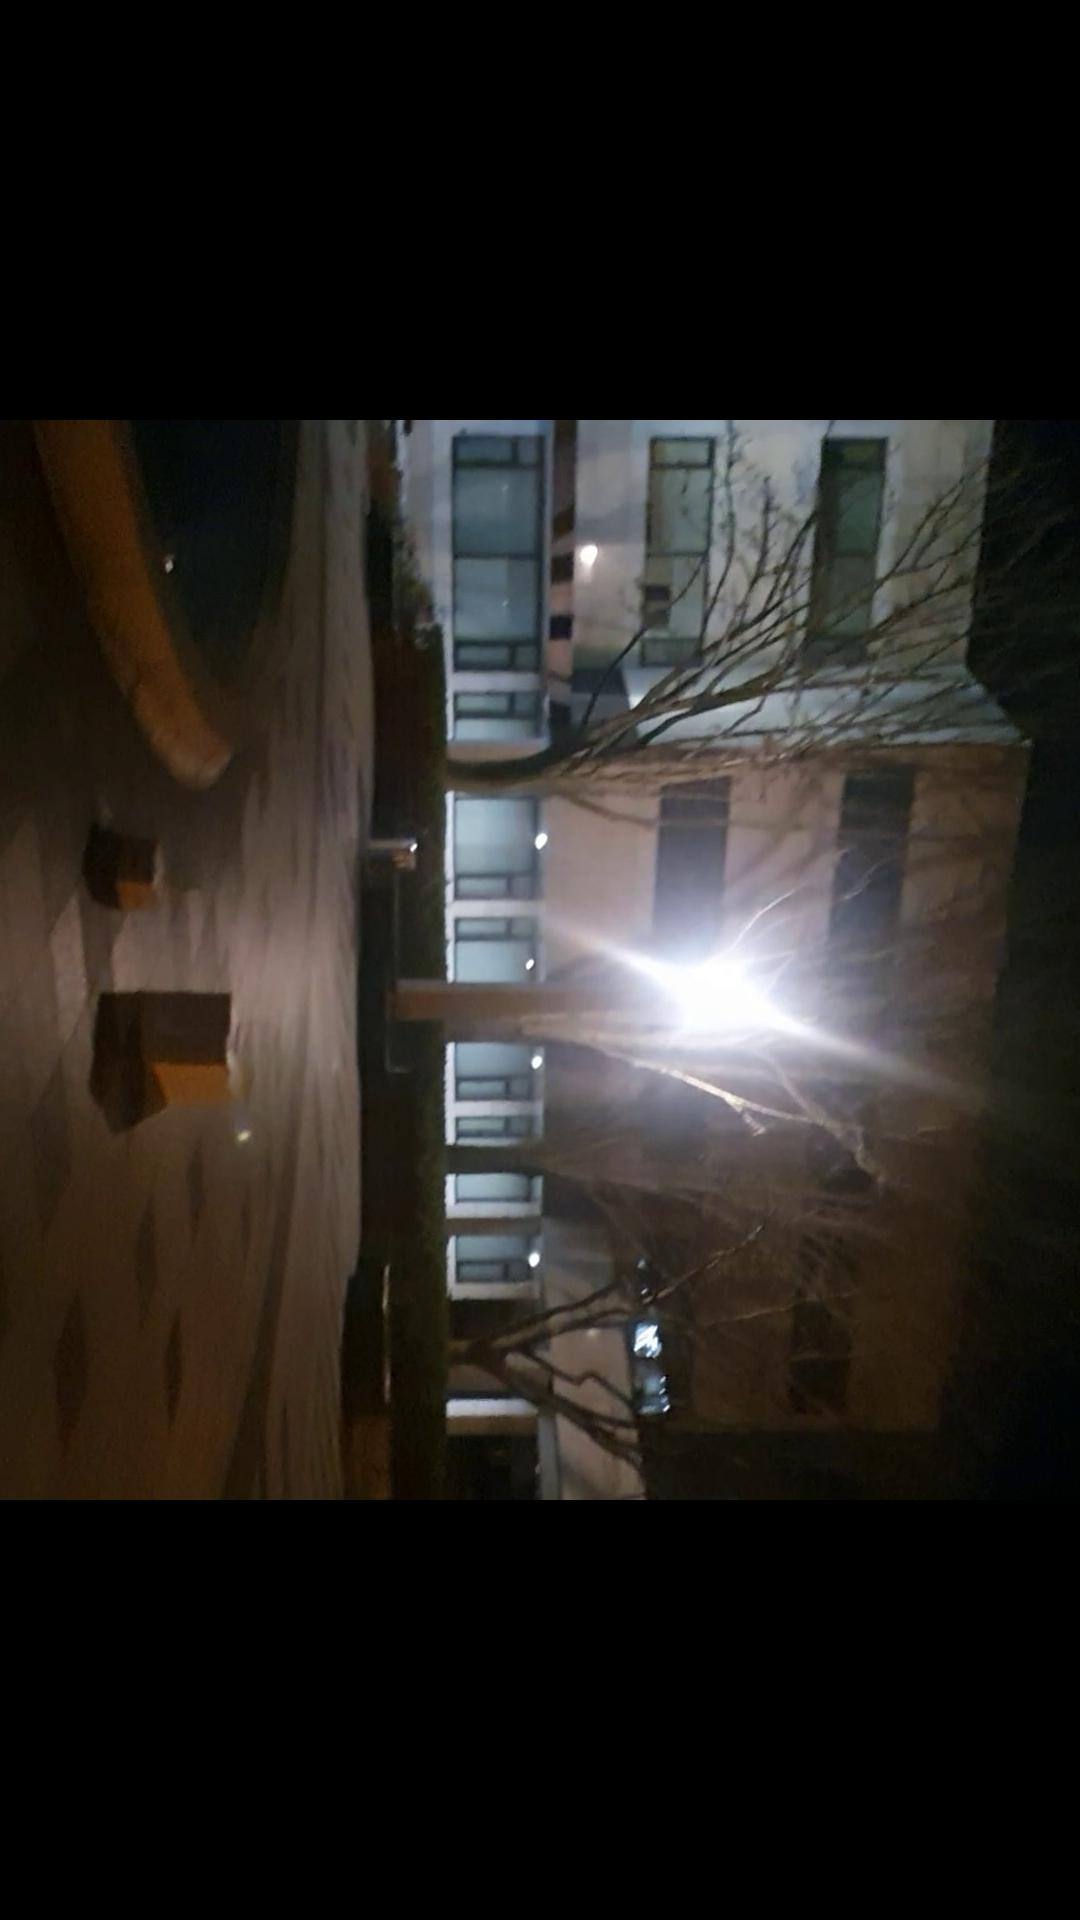Box: (123, 992, 252, 1097), (113, 828, 175, 915)
